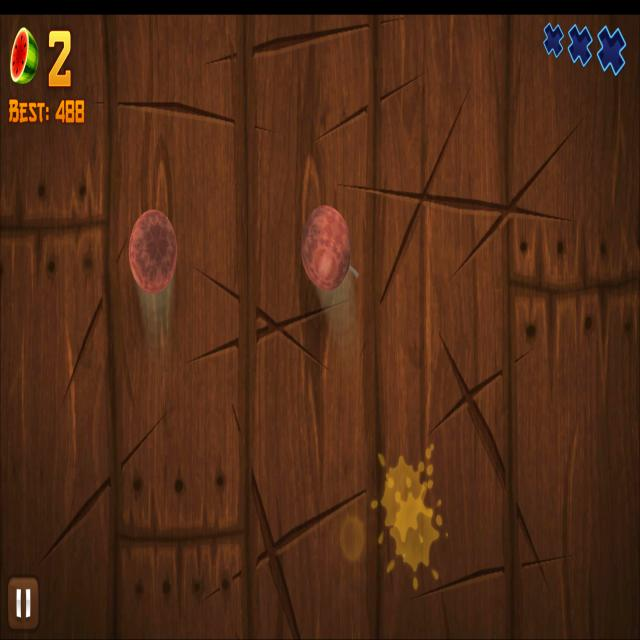fruit: (300, 202, 352, 292), (128, 208, 178, 294)
